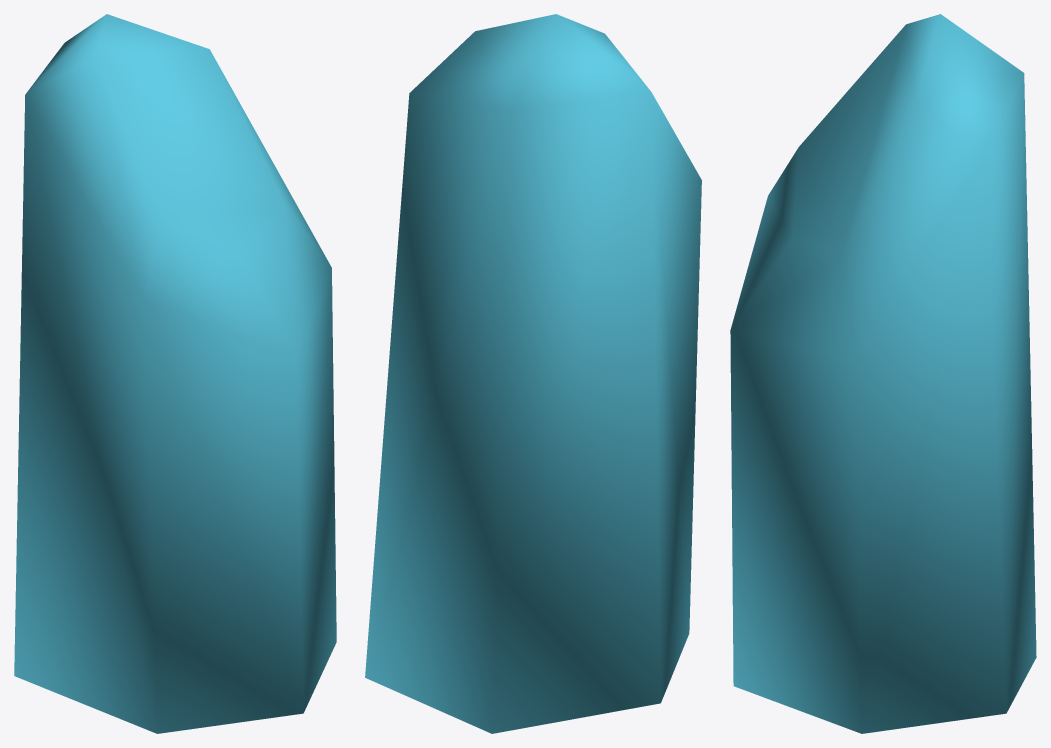
Rendered from column_04.FBX.
The picture shows the model from 3 angles, left to right: view 1: azimuth 30°, elevation 25°; view 2: azimuth 150°, elevation 25°; view 3: azimuth 270°, elevation 25°; orthographic projection. The views are drawn at different scales.
Visible parts, largest first — view 1: column_04; view 2: column_04; view 3: column_04.
Boxes of the visible parts, x1,y1,x2,y2 form: column_04: [14, 14, 336, 733]; column_04: [365, 14, 701, 733]; column_04: [730, 14, 1036, 733].
Size of the model in its own units: 23.48 by 52.31 by 22.3.
